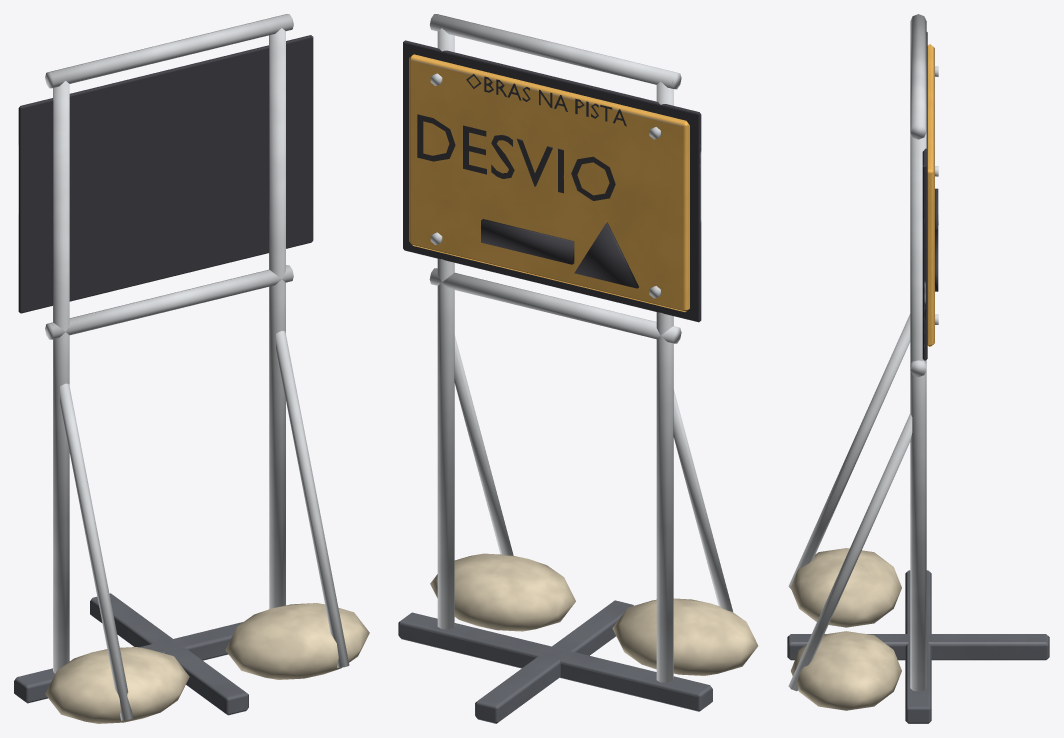
Rendered from Obras_DetourSign.fbx.
3 renders of one model, left to right at view 1: azimuth 30°, elevation 25°; view 2: azimuth 150°, elevation 25°; view 3: azimuth 270°, elevation 25°, orthographic. The views are drawn at different scales.
Visible parts, largest first — view 1: Obras_DetourSign; view 2: Obras_DetourSign; view 3: Obras_DetourSign.
Boxes of the visible parts, <box> form: Obras_DetourSign: <box>14,14,369,723</box>; Obras_DetourSign: <box>398,14,758,723</box>; Obras_DetourSign: <box>787,14,1049,723</box>.
Size of the model in its own units: 1.02 by 1.98 by 0.8.
1 material, 1 textured.
